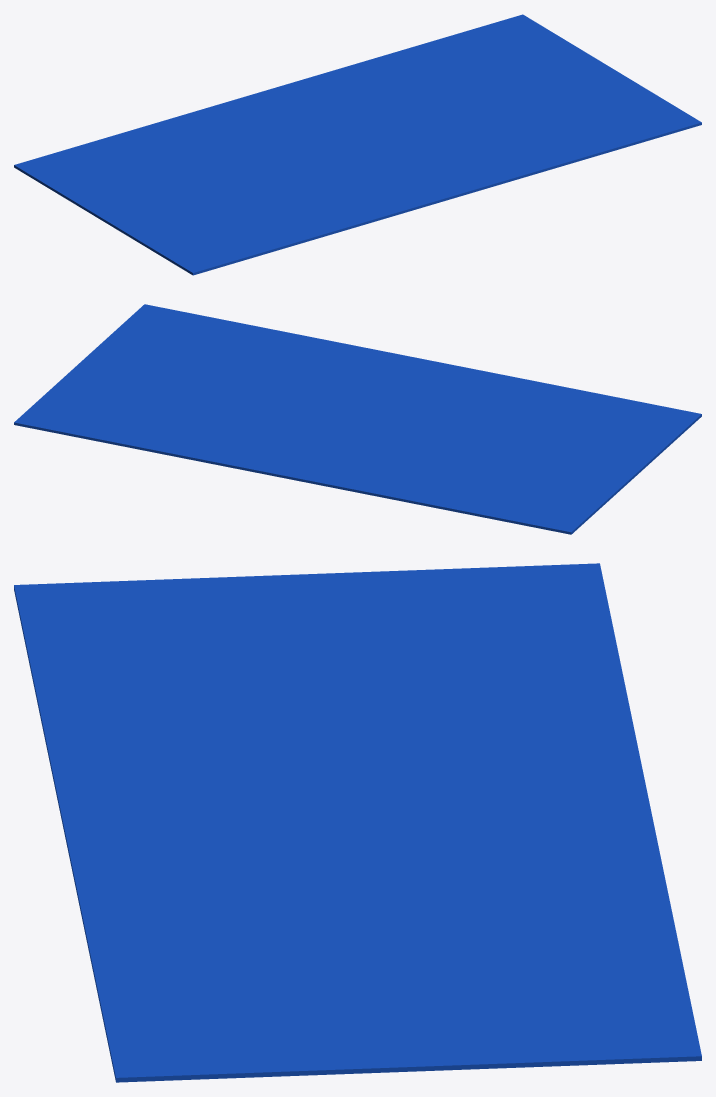
3 renders of one model, top to bottom at view 1: azimuth 30°, elevation 25°; view 2: azimuth 150°, elevation 25°; view 3: azimuth 270°, elevation 25°, orthographic. The views are drawn at different scales.
Visible parts, largest first — view 1: 태양광 패널_2; view 2: 태양광 패널_2; view 3: 태양광 패널_2.
Part boxes in pixels (x1,y1,x2,y2): 태양광 패널_2: (14,14,701,275); 태양광 패널_2: (14,304,701,534); 태양광 패널_2: (14,563,701,1082).
Bounding box in the file's own units: 23587 × 13328 × 100.
